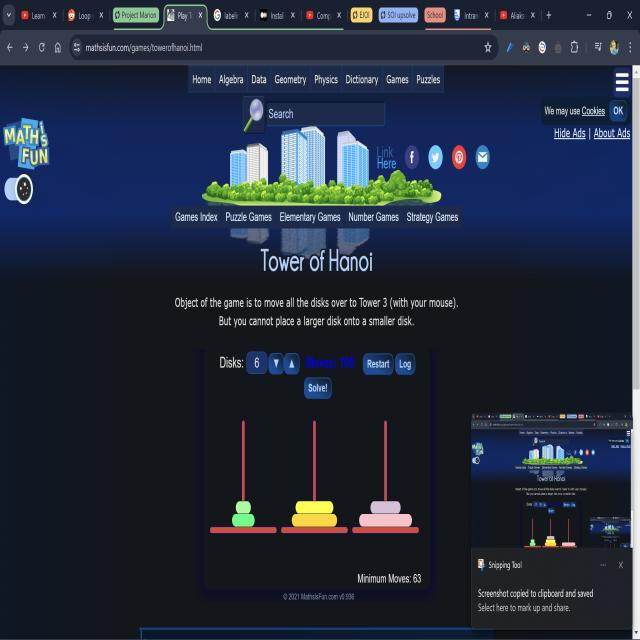disk1: (236, 501, 250, 514)
disk2: (232, 514, 254, 527)
disk3: (370, 501, 401, 514)
disk4: (296, 501, 334, 513)
disk5: (292, 514, 337, 527)
disk6: (359, 514, 412, 527)
